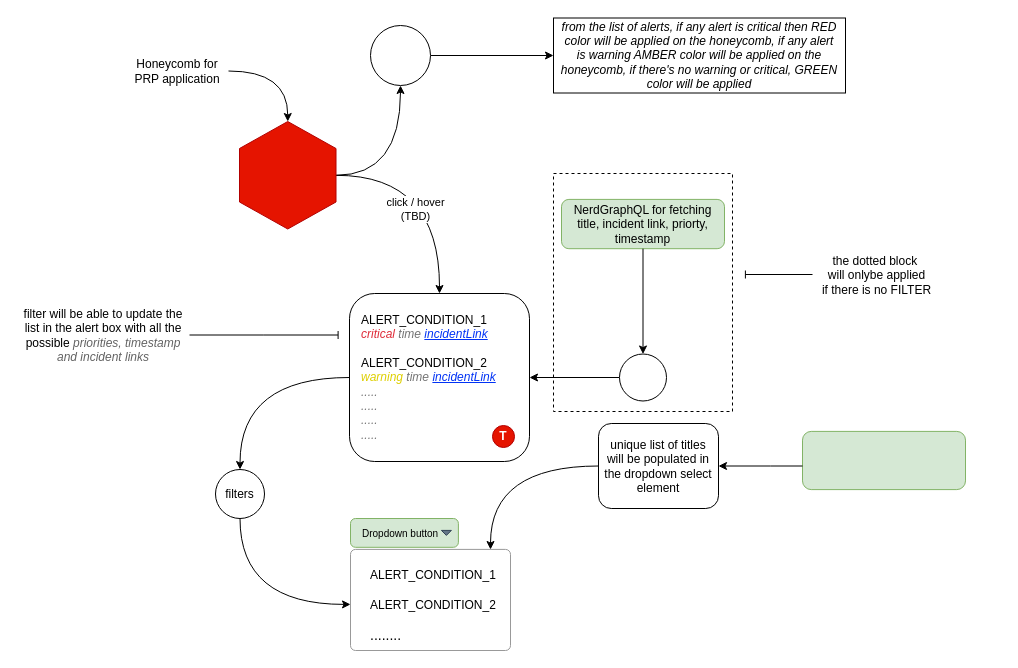
Image size: 1018x668. Some labels were removed from this diagram. Each missing label, with the centre of its shape:
color verdict: the point at 400,55
NerdGraphQL for fetching unique titles which are open: the point at 884,460
scrap: the point at 642,377
